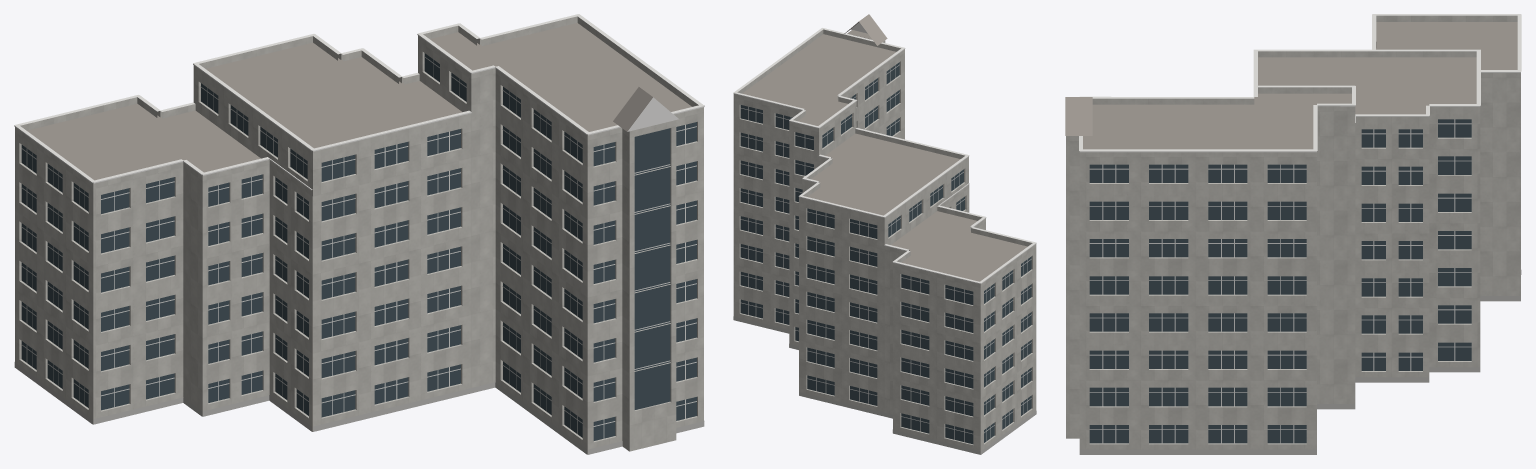
3 renders of one model, left to right at view 1: azimuth 30°, elevation 25°; view 2: azimuth 150°, elevation 25°; view 3: azimuth 270°, elevation 25°, orthographic. The views are drawn at different scales.
Visible parts, largest first — view 1: incubator__wall, incubator__glass, incubator__roof, incubator__parapet, incubator__frame, incubator__trim, incubator__base; view 2: incubator__wall, incubator__glass, incubator__roof, incubator__parapet, incubator__frame, incubator__trim, incubator__base; view 3: incubator__wall, incubator__glass, incubator__roof, incubator__parapet, incubator__frame, incubator__trim, incubator__base.
Part boxes in pixels (x1,y1,x2,y2): incubator__wall: (15,40,703,454); incubator__glass: (21,53,696,440); incubator__roof: (27,23,691,431); incubator__parapet: (15,16,703,195); incubator__frame: (21,56,696,438); incubator__trim: (14,14,704,190); incubator__base: (14,362,704,454); incubator__wall: (733,33,1036,454); incubator__glass: (740,62,1031,444); incubator__roof: (742,14,1027,281); incubator__parapet: (733,29,1036,287); incubator__frame: (740,64,1031,442); incubator__trim: (733,22,1036,283); incubator__base: (733,316,1036,454); incubator__wall: (1066,77,1520,449); incubator__glass: (1089,119,1471,443); incubator__roof: (1065,22,1517,149); incubator__parapet: (1079,15,1520,156); incubator__frame: (1089,119,1471,443); incubator__trim: (1079,14,1521,152); incubator__base: (1079,270,1521,454).
Bounding box in the file's own units: 43.9 × 32 × 40.02.
7 materials, 2 textured.
